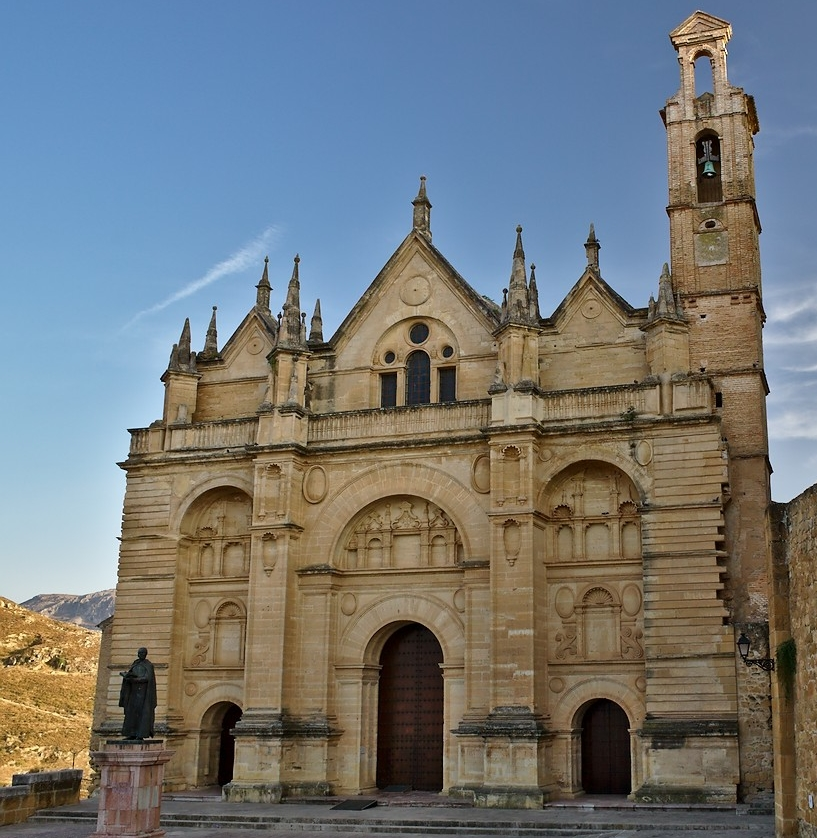arco-medio-punto: (322, 490, 473, 580), (531, 456, 645, 522), (353, 615, 450, 675), (171, 483, 257, 544), (564, 696, 637, 742), (193, 698, 243, 737)
fronton: (665, 7, 734, 43)
ojo-de-buey: (405, 318, 432, 346)
serliana: (371, 344, 460, 406)
